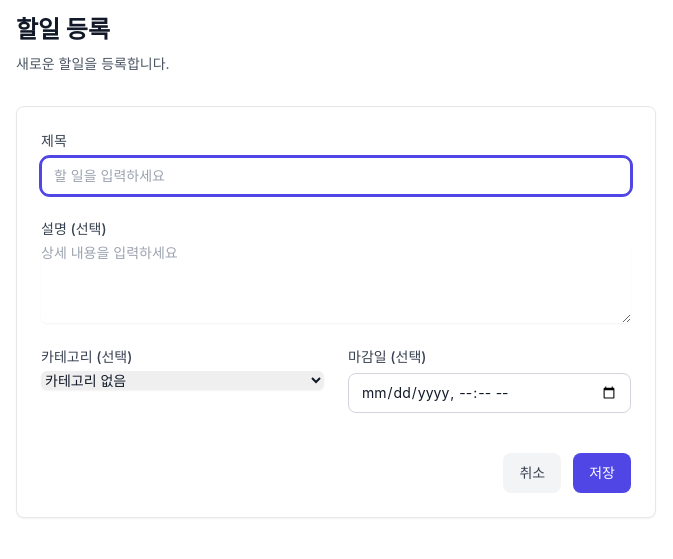
Scenario: TodoFormPage › 제목 미입력 시 에러 메시지를 표시한다
Click the button "저장". click: [602, 473]
box: [573,453,631,493]
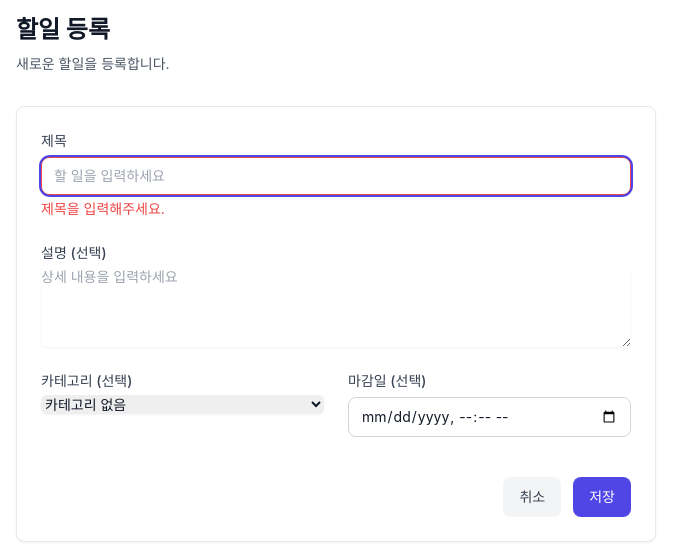
Result: the text "제목을 입력해주세요." is shown at [41,200,165,217]
